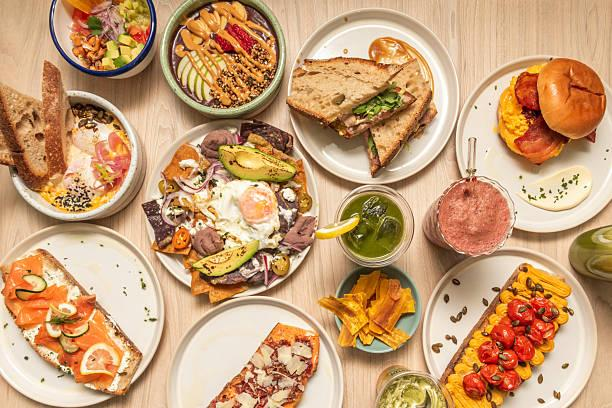Braised Crucian Carp: (1, 223, 163, 406), (285, 6, 451, 184), (143, 118, 311, 292), (454, 54, 609, 231), (421, 248, 594, 404), (164, 296, 337, 406), (11, 89, 143, 219), (159, 0, 285, 118), (48, 0, 156, 79)
